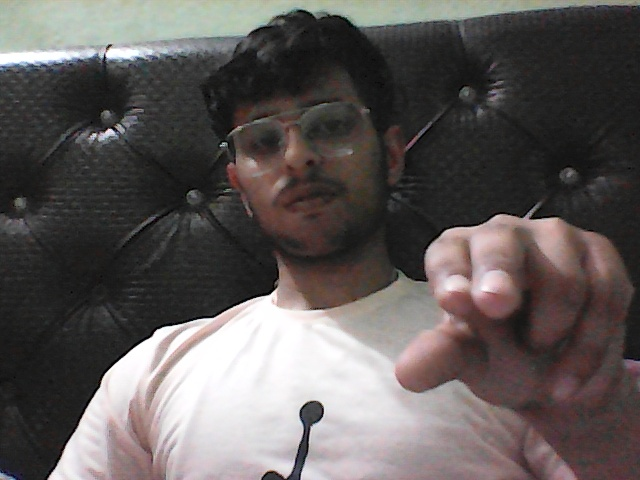no: (361, 185, 640, 448)
